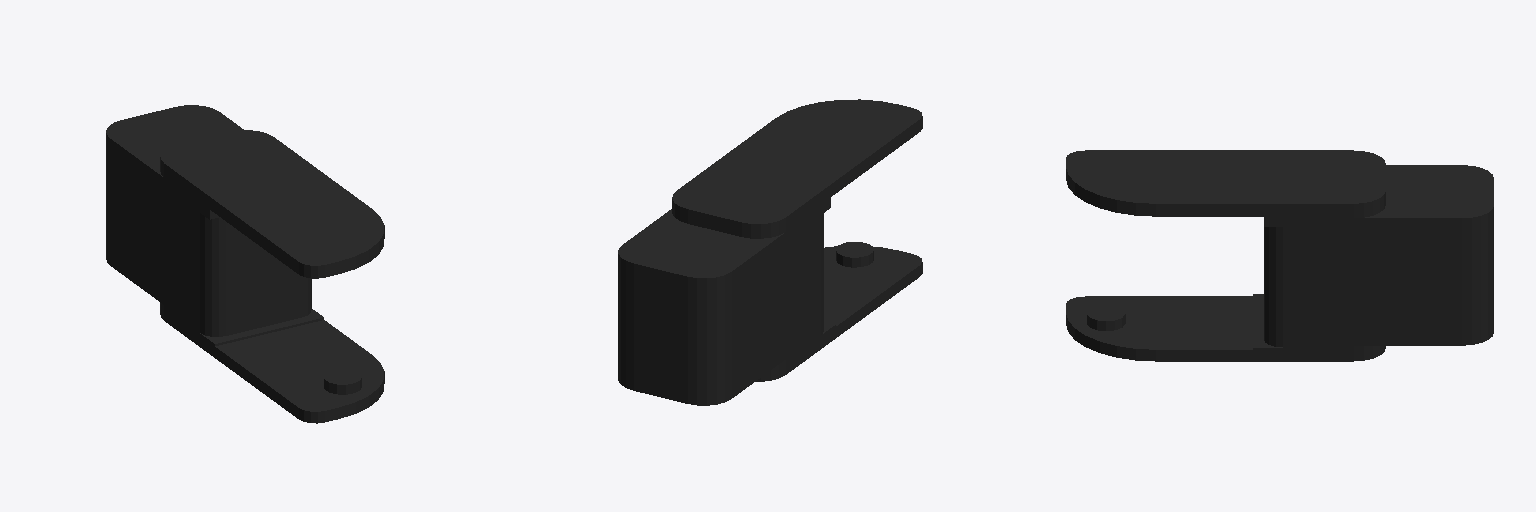
The picture shows the model from 3 angles: view 1: azimuth 30°, elevation 25°; view 2: azimuth 150°, elevation 25°; view 3: azimuth 270°, elevation 25°; orthographic projection.
Parts seen in each view (by area): view 1: link_14.0; view 2: link_14.0; view 3: link_14.0.
Boxes of the visible parts, x1,y1,x2,y2 form: link_14.0: [106, 105, 384, 423]; link_14.0: [618, 99, 922, 405]; link_14.0: [1066, 150, 1493, 361].
Bounding box in the file's own units: 0.0196 × 0.027 × 0.0665.